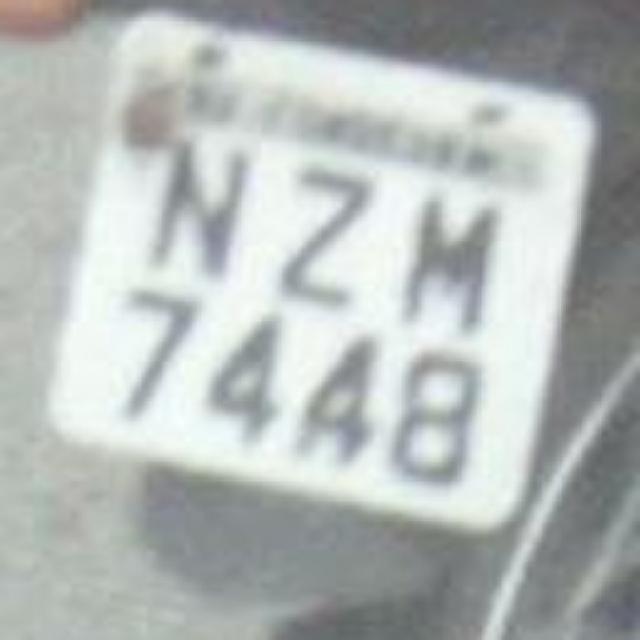4: (276, 296, 404, 489), (192, 284, 288, 456)
7: (88, 280, 208, 440)
8: (380, 325, 500, 500)
N: (376, 172, 504, 340), (132, 128, 256, 288)
Z: (260, 156, 380, 309)
